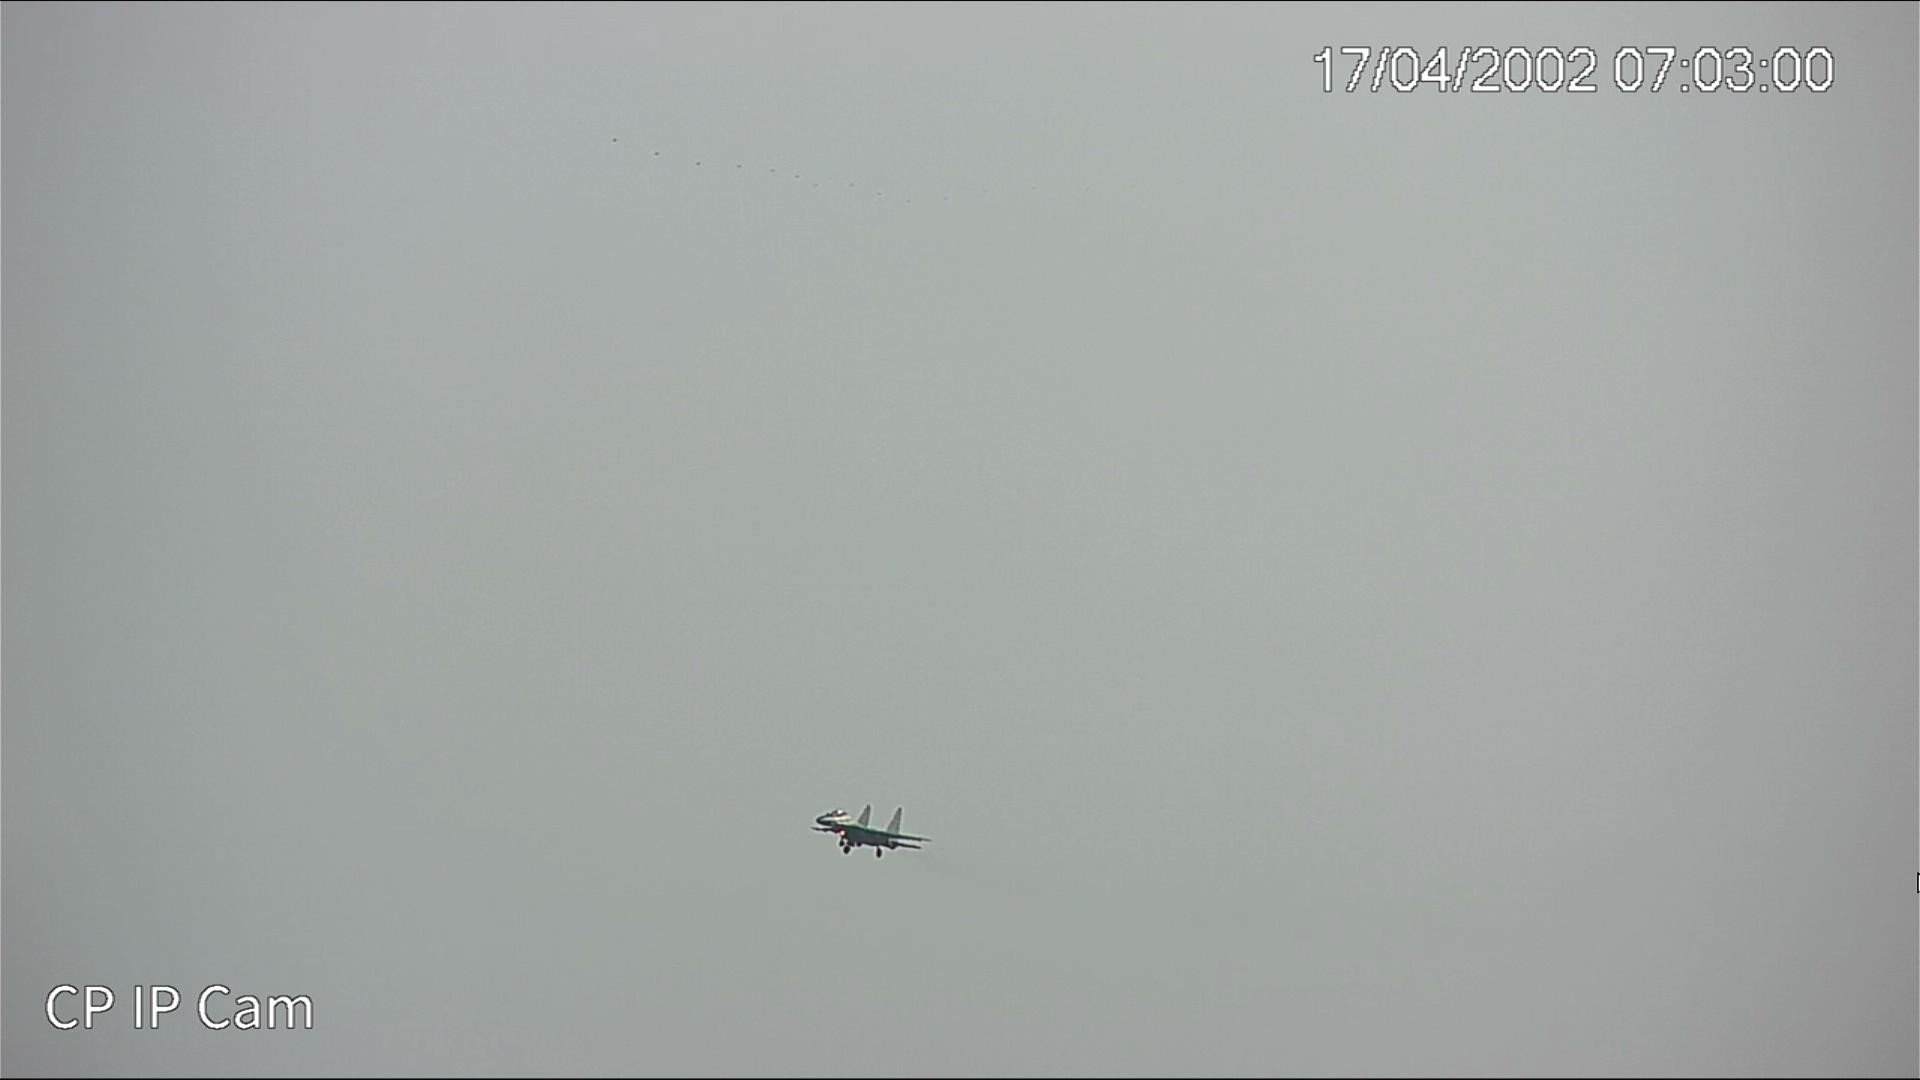SU_30: (808, 806, 935, 851)
